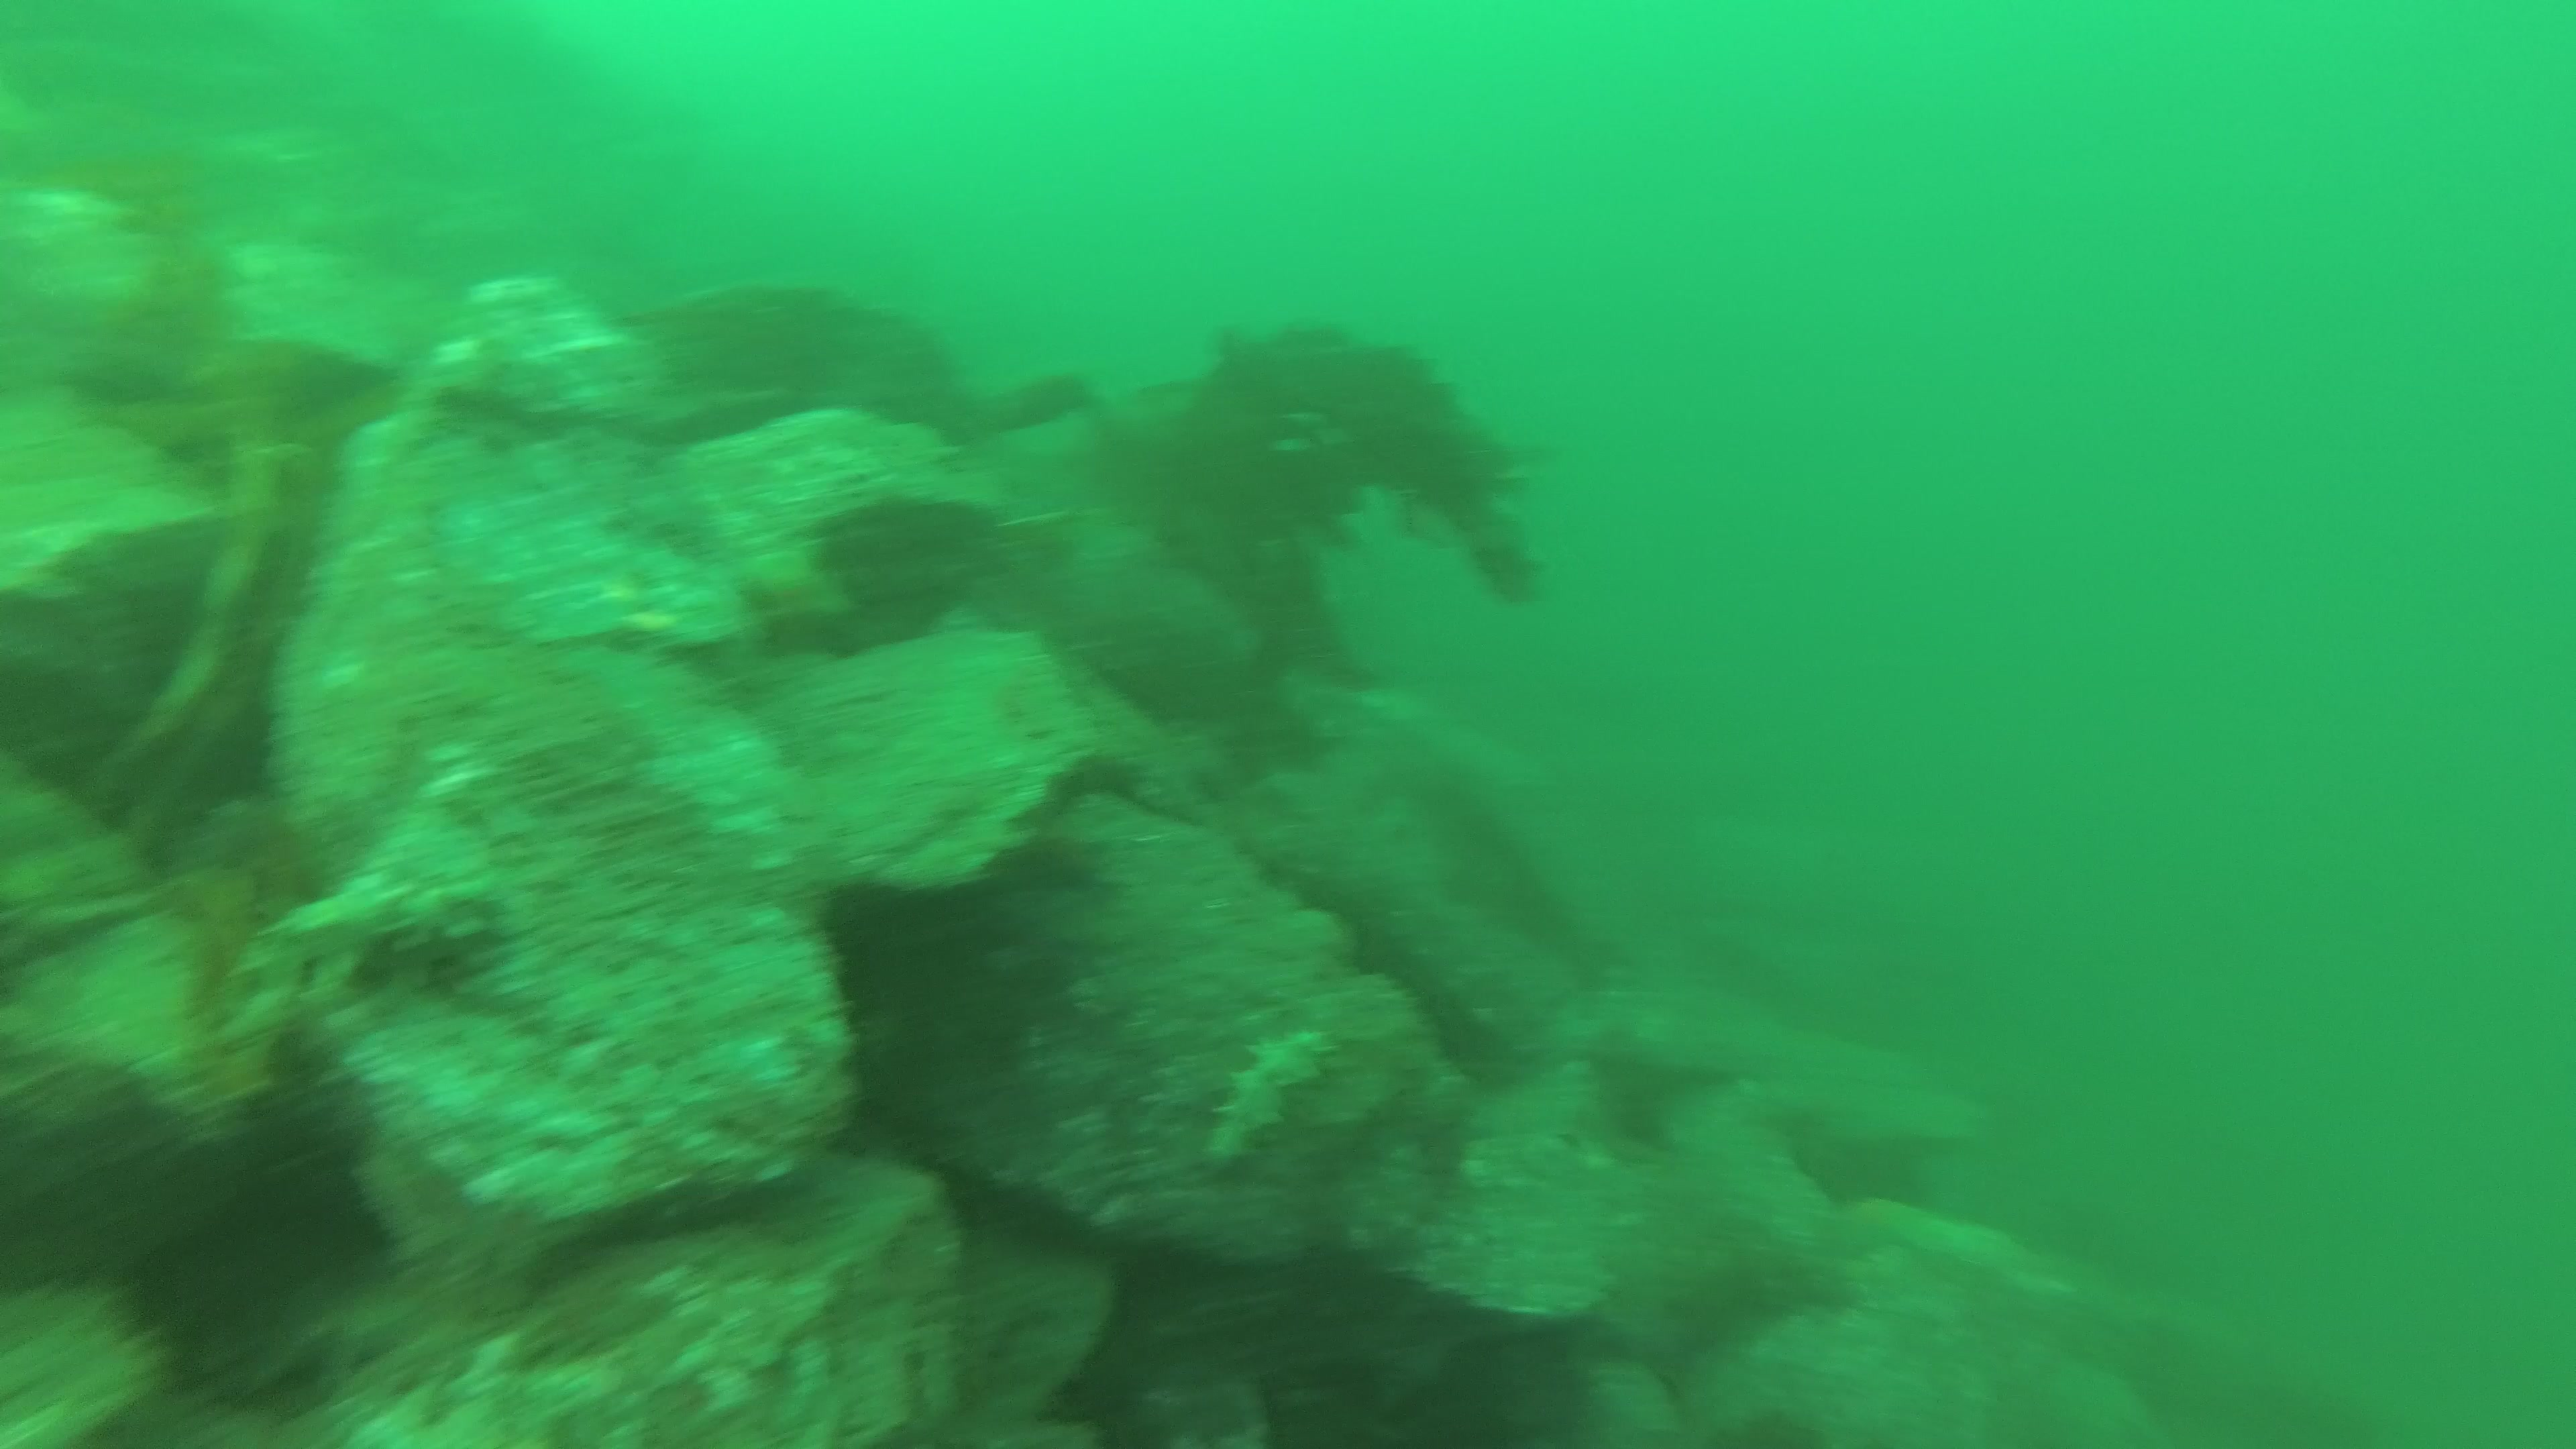holothurian: (228, 874, 513, 998), (1212, 1023, 1338, 1182)
